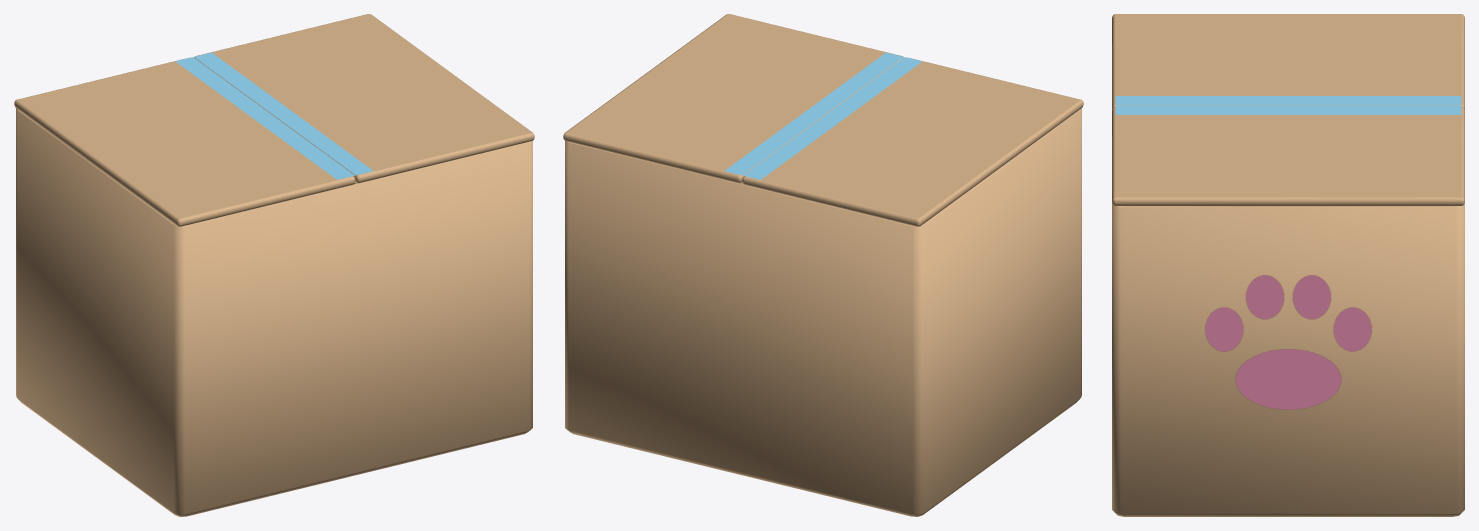
The model's file is box_medium.glb.
3 views of the same model, side by side, from view 1: azimuth 30°, elevation 25°; view 2: azimuth 150°, elevation 25°; view 3: azimuth 270°, elevation 25° (orthographic). The views are drawn at different scales.
Visible parts, largest first — view 1: Body, Lid_L, Lid_R; view 2: Body, Lid_L, Lid_R; view 3: Body, Lid_R, Lid_L.
Boxes of the visible parts, <box> form: Body: <box>16,108,532,516</box>; Lid_L: <box>14,57,355,226</box>; Lid_R: <box>194,14,534,182</box>; Body: <box>565,108,1081,516</box>; Lid_L: <box>742,57,1083,226</box>; Lid_R: <box>563,14,903,182</box>; Body: <box>1112,203,1464,516</box>; Lid_R: <box>1112,105,1464,205</box>; Lid_L: <box>1112,14,1464,109</box>.
Size of the model in its own units: 0.5003 by 0.4 by 0.4.
3 materials, 3 textured.
